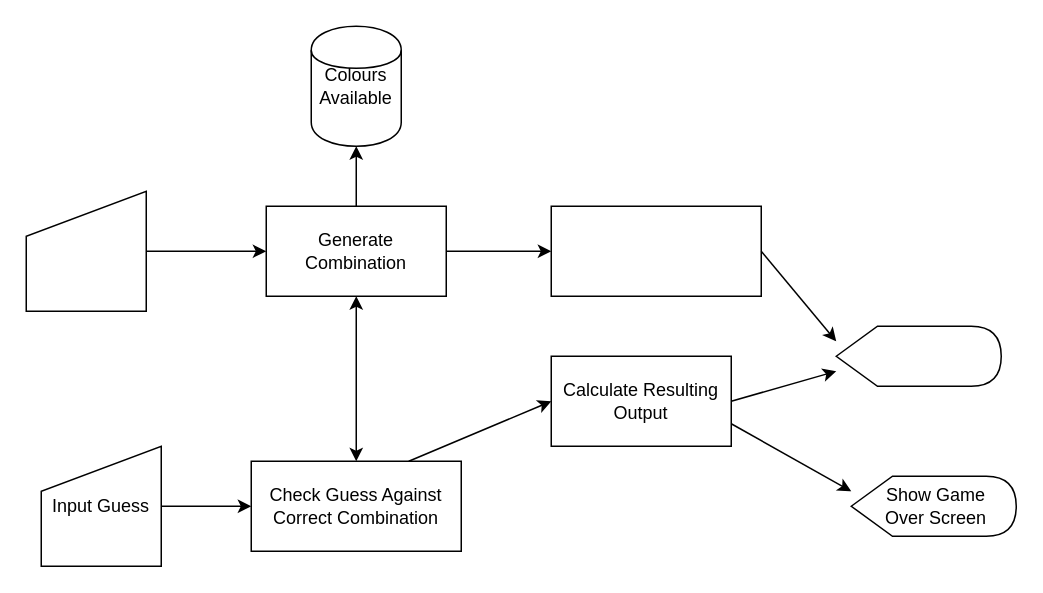
This 1043x593 diagram has some shape labels left out. Here are the shapes that lost their labels. From the top down, the centre of each, then its label:
At (85,250): "Input User Info".
At (655,250): "Initialize Interface".
At (918,355): "Update Display".
